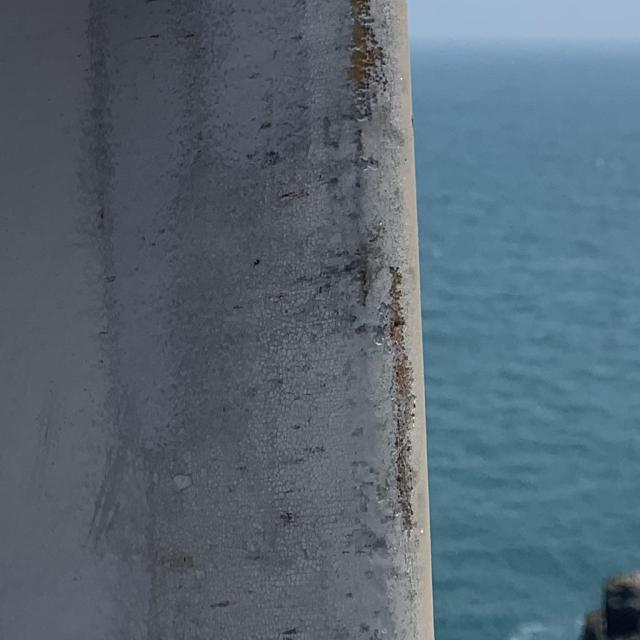corrosion: (304, 4, 425, 584)
